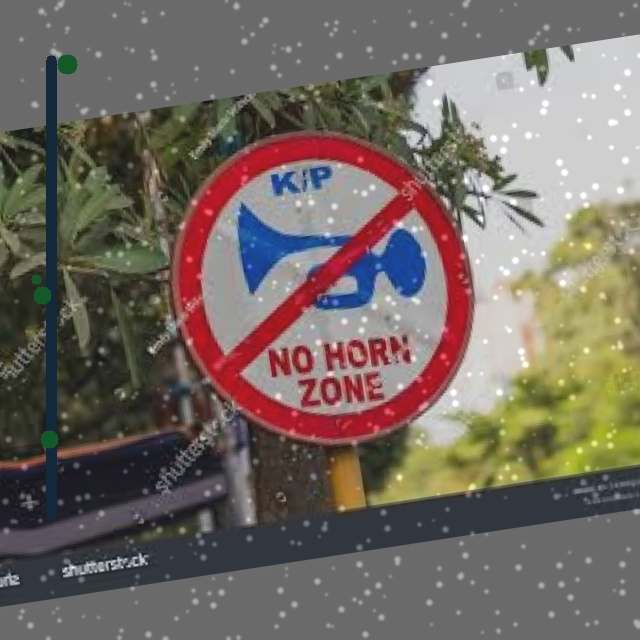Horn_Prohibited: (161, 112, 487, 456)
